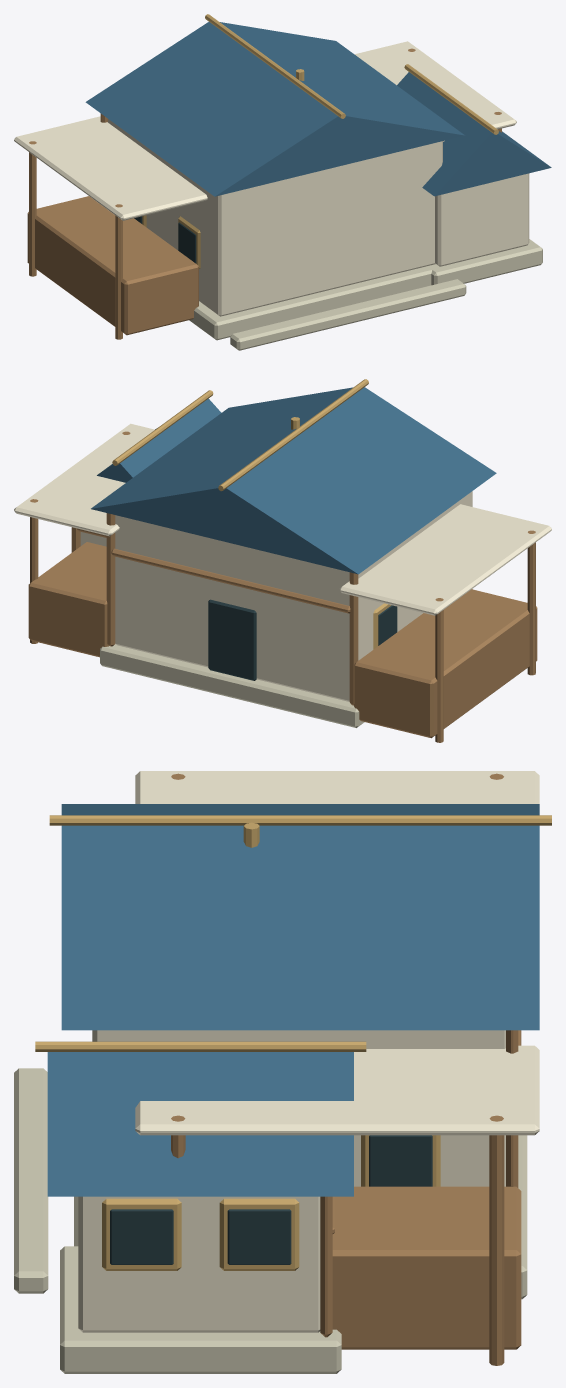
Rendered from level_12.glb.
3 views of the same model, one above another, from view 1: azimuth 30°, elevation 25°; view 2: azimuth 150°, elevation 25°; view 3: azimuth 270°, elevation 25° (orthographic). The views are drawn at different scales.
Visible parts, largest first — view 1: market — level 12; view 2: market — level 12; view 3: market — level 12.
Boxes of the visible parts, x1,y1,x2,y2 form: market — level 12: (14, 14, 551, 350); market — level 12: (14, 379, 551, 742); market — level 12: (14, 771, 551, 1373).
Size of the model in its own units: 7.08 by 3.39 by 4.39.
